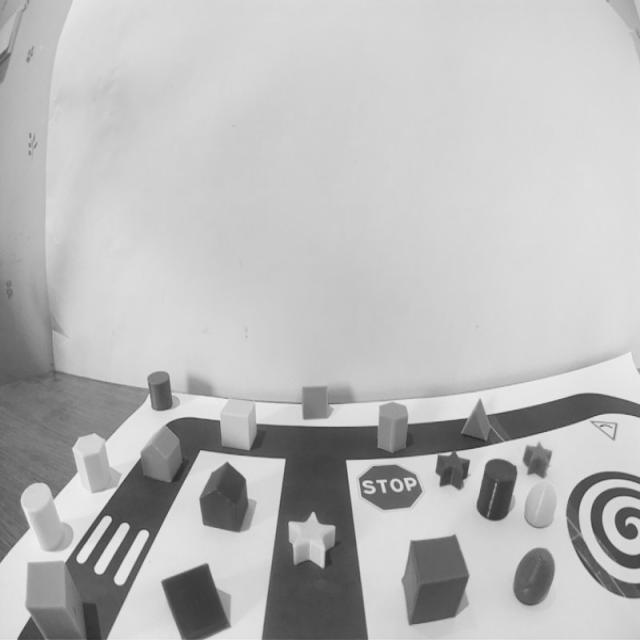ball: (510, 542, 560, 612), (522, 476, 558, 534)
cube: (398, 526, 472, 625), (23, 556, 93, 640)
cylinder: (21, 480, 68, 554), (475, 453, 519, 523), (216, 392, 261, 456), (144, 368, 175, 416)
hexagon: (71, 429, 112, 498), (376, 398, 412, 459)
home: (197, 458, 254, 535), (135, 421, 186, 488)
lineStraight: (257, 483, 375, 640)
nest: (560, 460, 640, 607)
star: (283, 506, 343, 576), (432, 445, 472, 497), (520, 436, 556, 478)
stop: (343, 460, 429, 518)
triangle: (157, 559, 235, 640), (459, 392, 493, 444), (298, 380, 331, 420)
